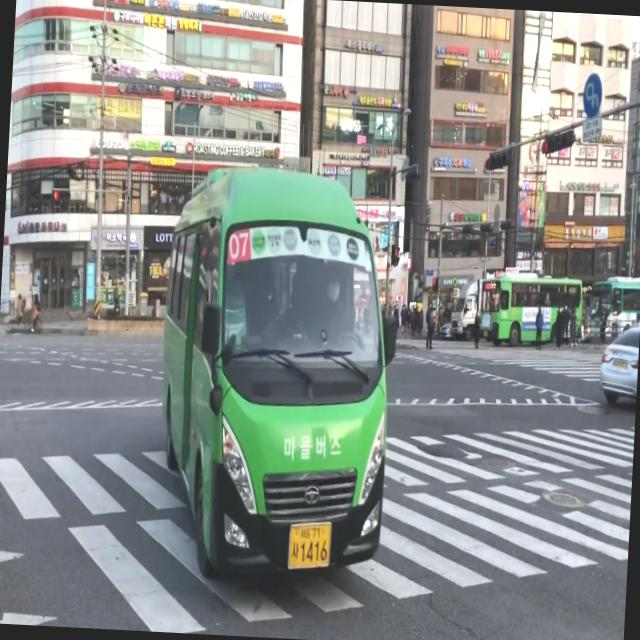bus-number: (228, 229, 250, 262)
